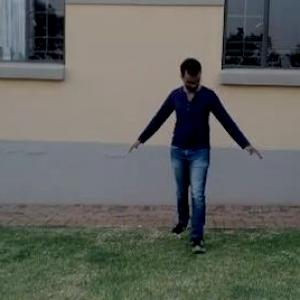land: (110, 36, 260, 260)
